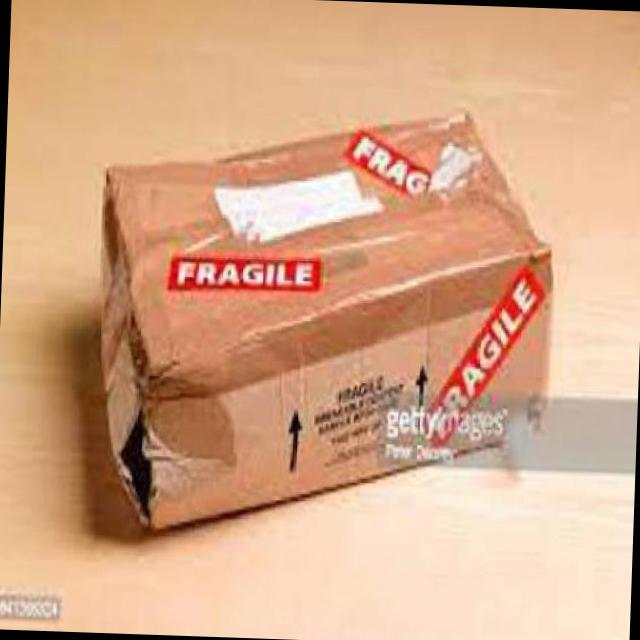box: (26, 92, 576, 634)
